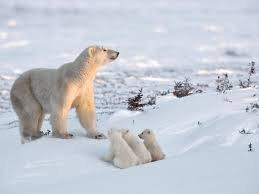bear: (8, 41, 119, 145), (102, 125, 137, 178), (139, 127, 174, 164), (120, 126, 152, 166)
